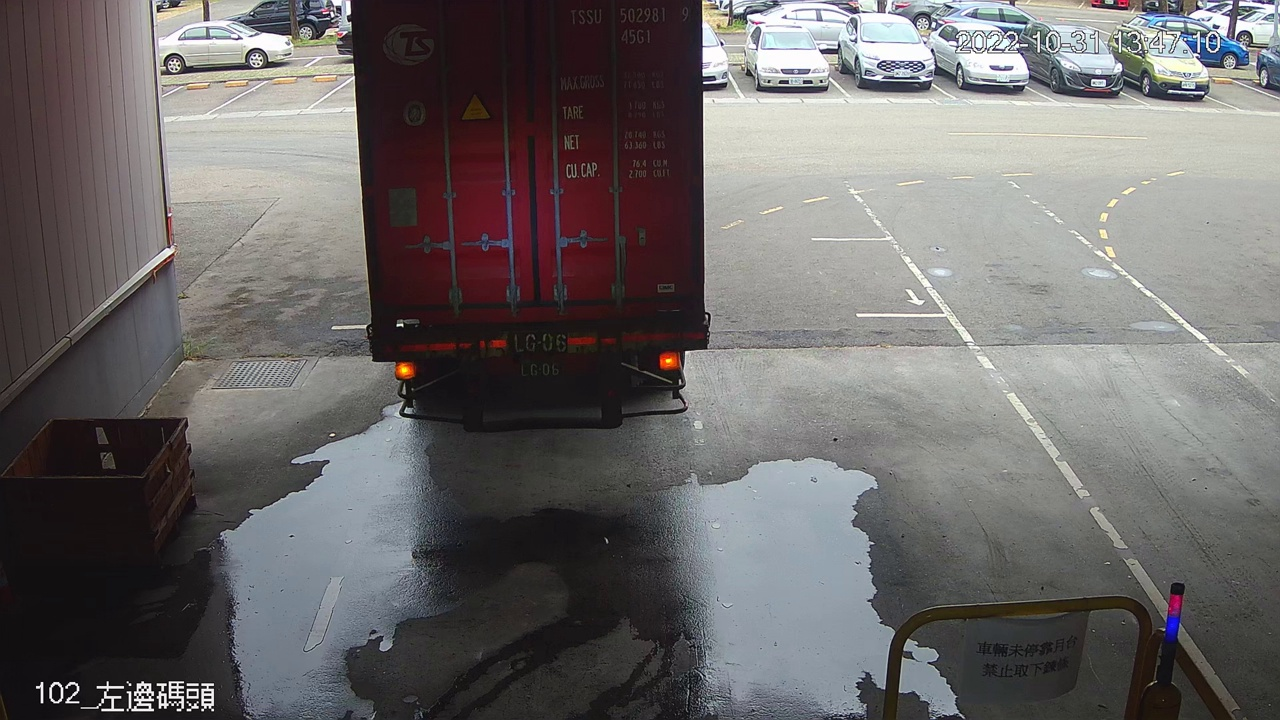container: (564, 3, 695, 50)
